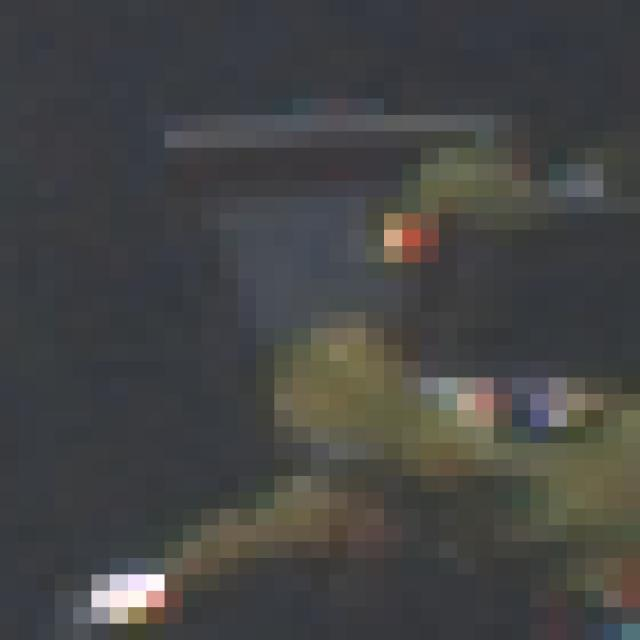Give Way: (111, 99, 531, 559)
